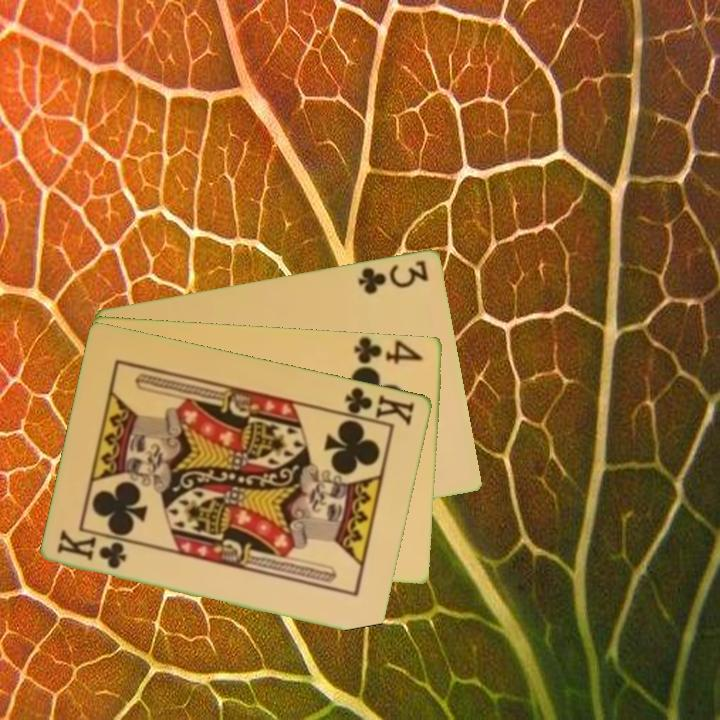3c: (354, 256, 432, 297)
4c: (351, 335, 427, 366)
Kc: (335, 383, 418, 428), (54, 528, 130, 572)
